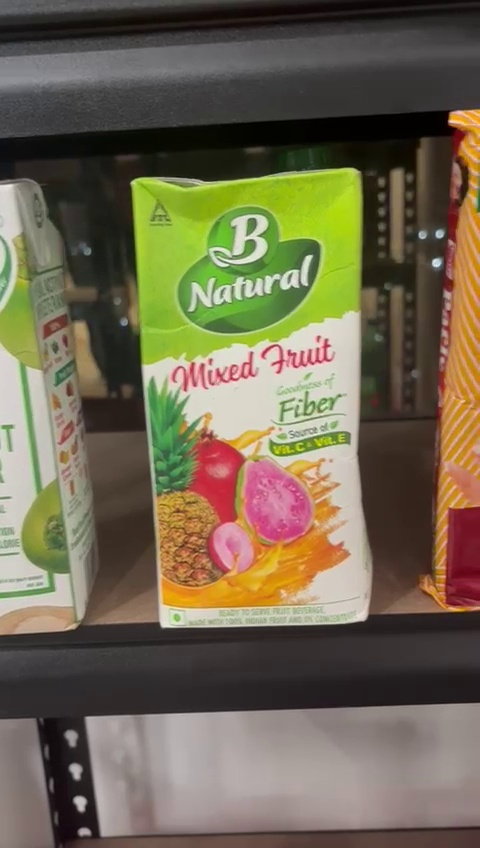Mixed Fruit: (134, 179, 366, 624)
